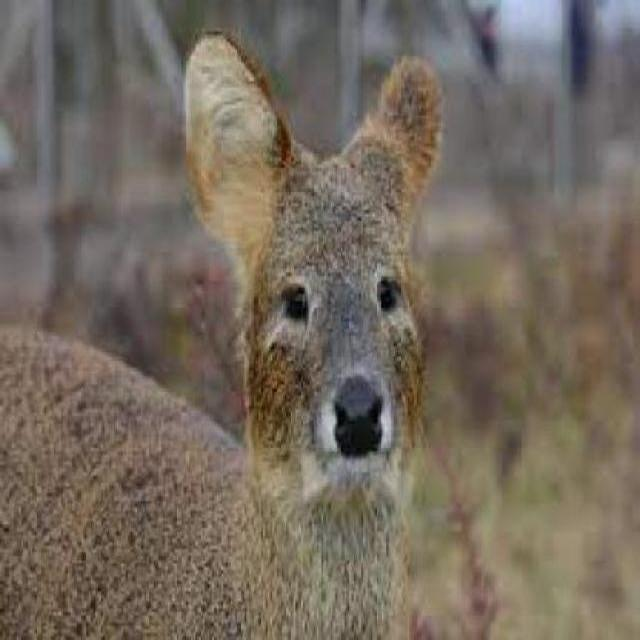deer: (0, 36, 460, 639)
